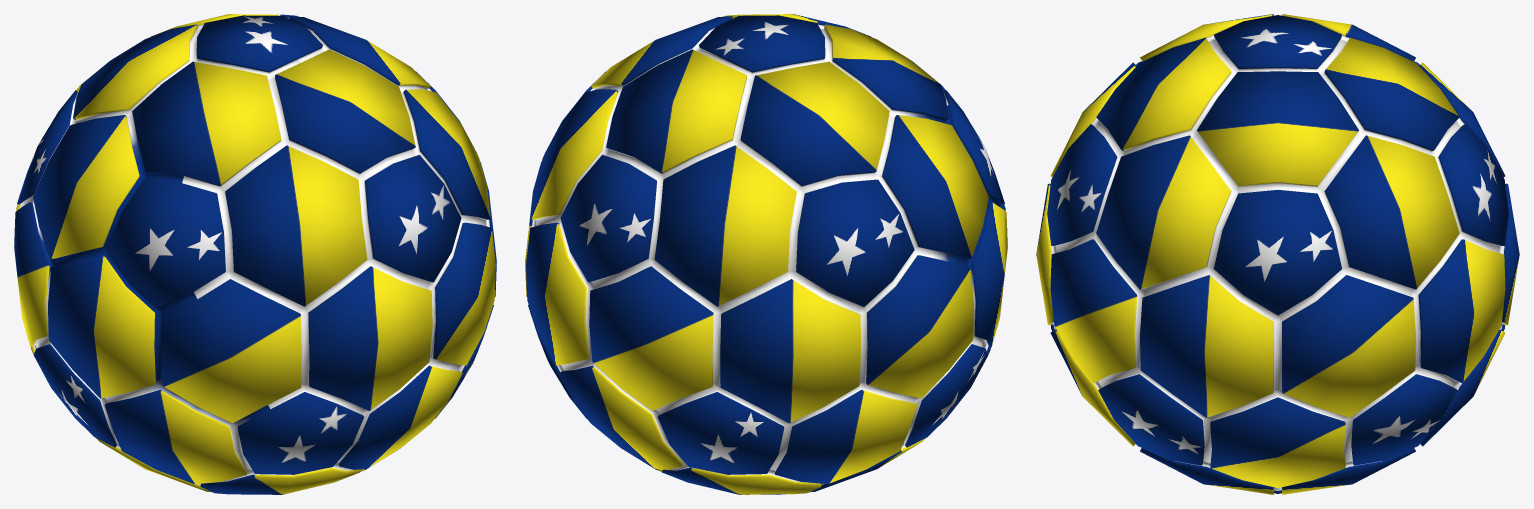
File: pelotaCURACAO.glb
The picture shows the model from 3 angles, left to right: view 1: azimuth 30°, elevation 25°; view 2: azimuth 150°, elevation 25°; view 3: azimuth 270°, elevation 25°; orthographic projection.
Parts seen in each view (by area): view 1: Material_001-material; view 2: Material_001-material; view 3: Material_001-material.
Boxes of the visible parts, x1,y1,x2,y2 form: Material_001-material: (14, 14, 496, 494); Material_001-material: (525, 14, 1007, 494); Material_001-material: (1036, 14, 1519, 494).
Size of the model in its own units: 0.011 by 0.0112 by 0.0111.
Materials: 1 (1 with a texture image).
